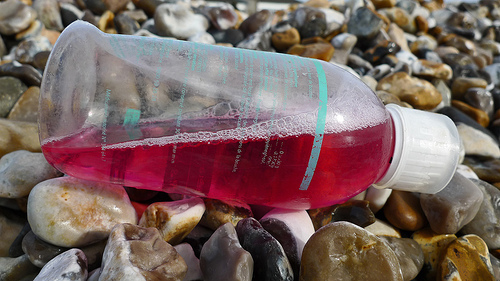litter: (39, 22, 461, 211)
